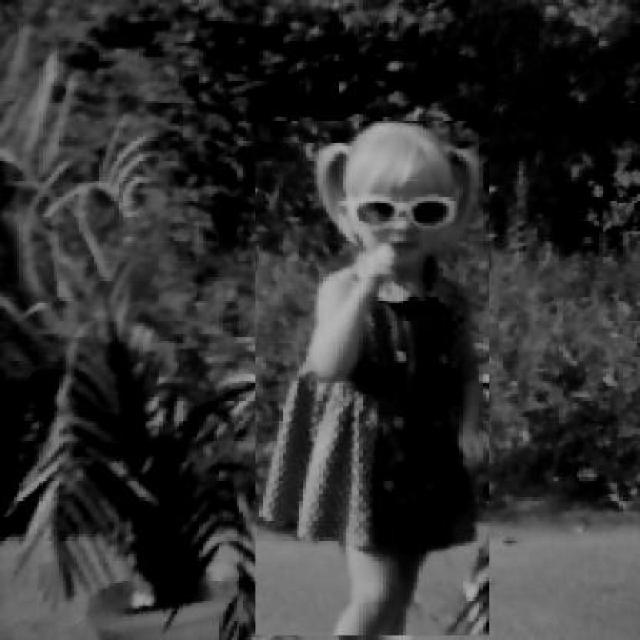child: (254, 120, 489, 637)
